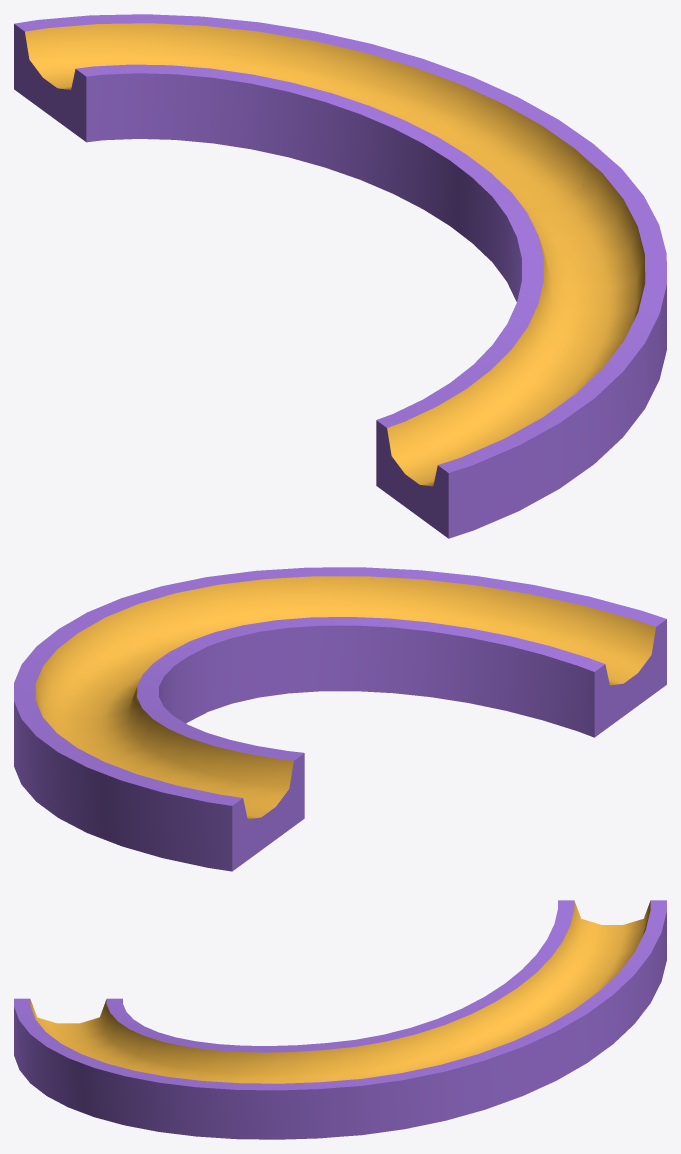
The model's file is kenney-marble-helix-large-half-left.glb.
The picture shows the model from 3 angles, top to bottom: view 1: azimuth 30°, elevation 25°; view 2: azimuth 150°, elevation 25°; view 3: azimuth 270°, elevation 25°; orthographic projection. The views are drawn at different scales.
Visible parts, largest first — view 1: helix-large-half-left; view 2: helix-large-half-left; view 3: helix-large-half-left.
Part boxes in pixels (x1,y1,x2,y2): helix-large-half-left: (14,14,666,538); helix-large-half-left: (14,567,666,871); helix-large-half-left: (14,900,666,1139).
Bounding box in the file's own units: 3 × 1.5 × 6.
1 material, 1 textured.
